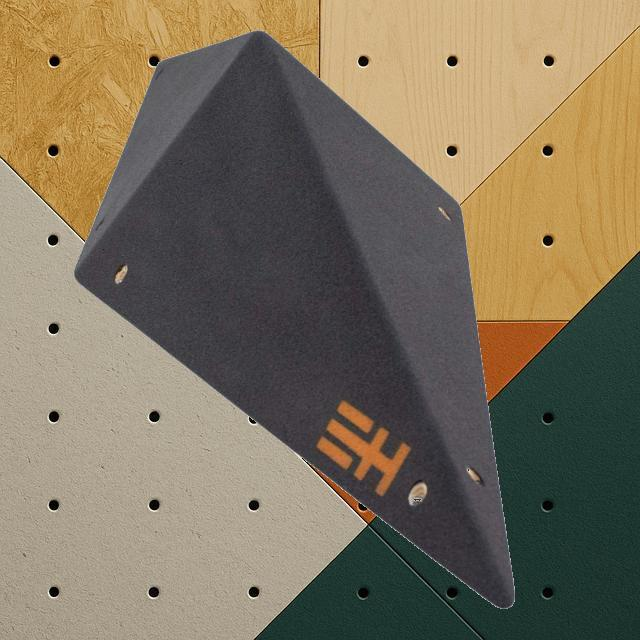Volume: (73, 28, 517, 608)
